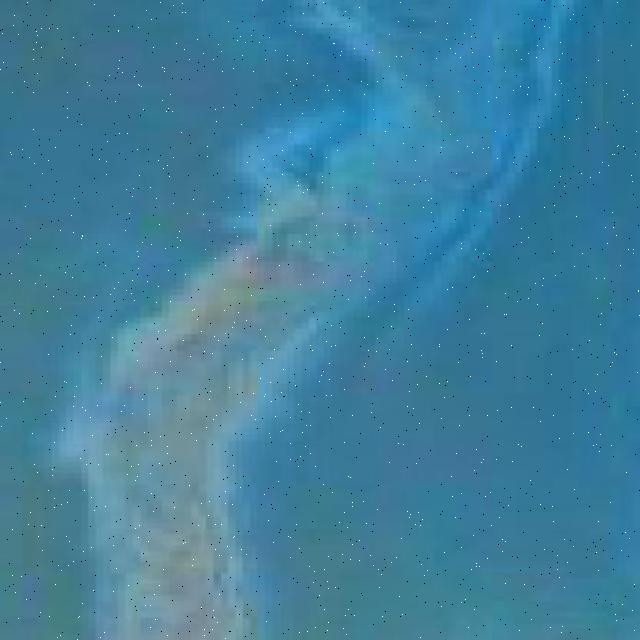oil: (183, 0, 582, 282), (64, 287, 346, 634)
